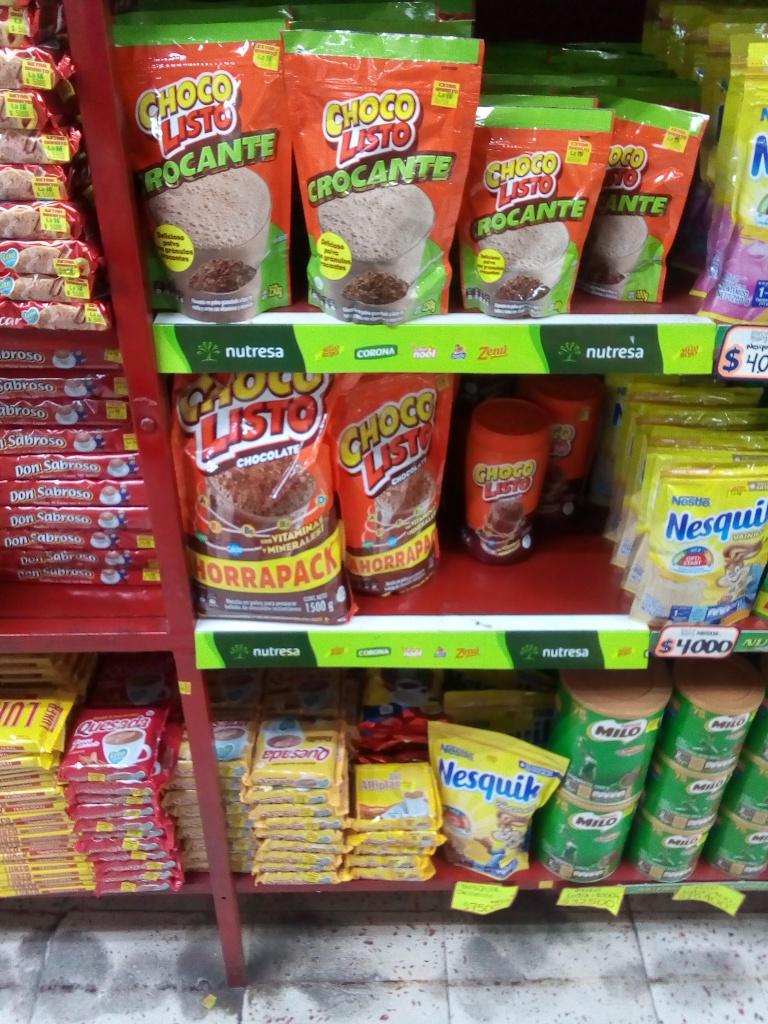COL0170102DYP10000: (580, 101, 705, 317)
COL0170102DYP25000: (283, 28, 479, 326)
COL0170103DYP1,500: (328, 372, 451, 595)
COL0170103TRR30000: (466, 400, 549, 571)
COL0170203LAT40000: (648, 753, 730, 834)
COL0170306DYP20000: (633, 463, 764, 622)
